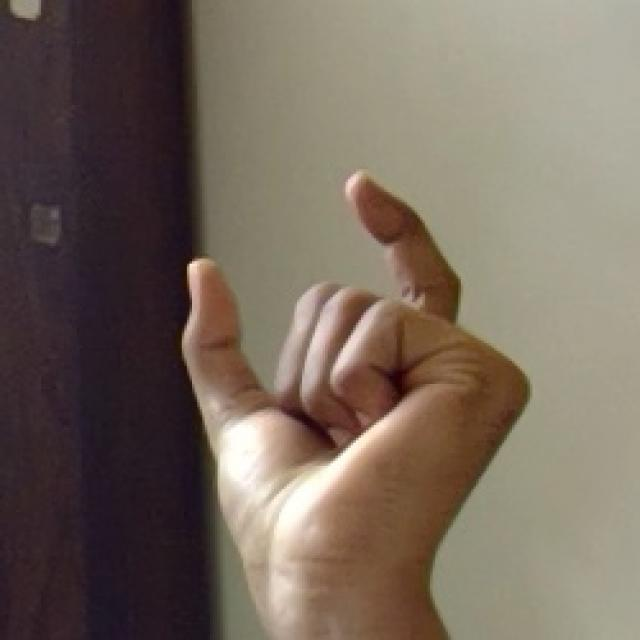Alphabet-U: (164, 158, 530, 624)
